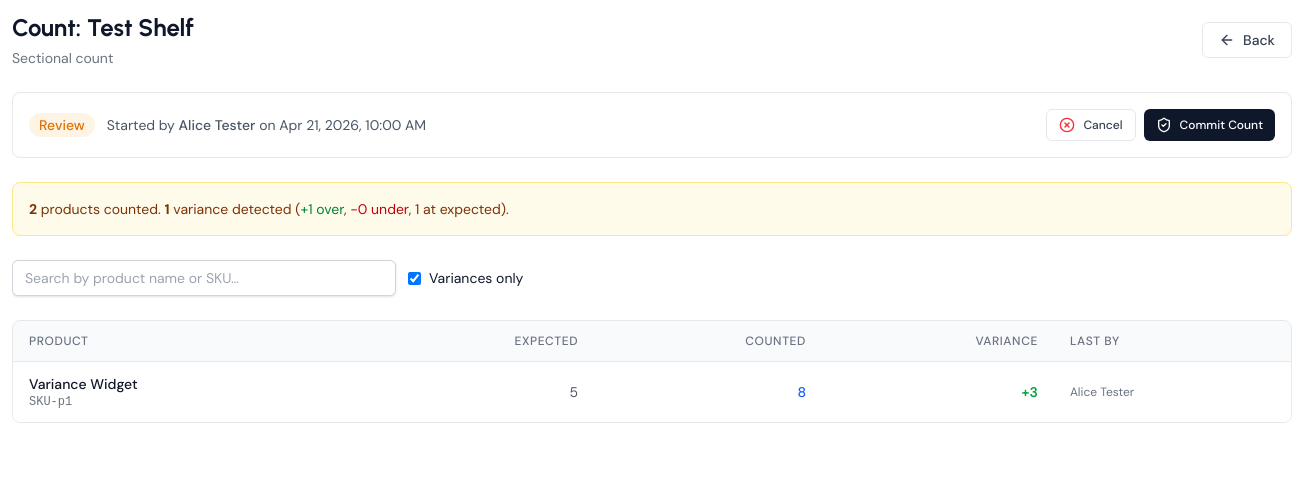
Test case: CountDetailPage › variance filter toggle in review state hides zero-variance rows
expect the heading "Count: Test Shelf" is shown: met, box [12, 12, 194, 44]
expect the text "Variance Widget" is shown: met, box [29, 375, 138, 393]
Note: Toggle off the filter
Click the checkbox labelled "Variances only": (414, 278) [408, 272, 421, 284]
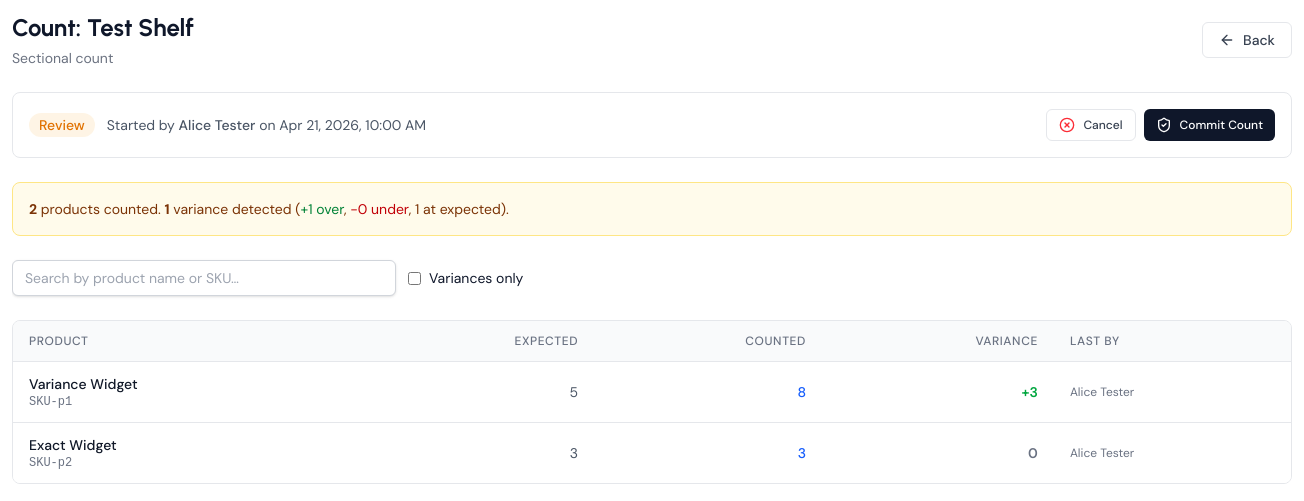
expect the text "Variance Widget" is shown: met, box [29, 375, 138, 393]
expect the text "Exact Widget" is shown: met, box [29, 436, 117, 454]
